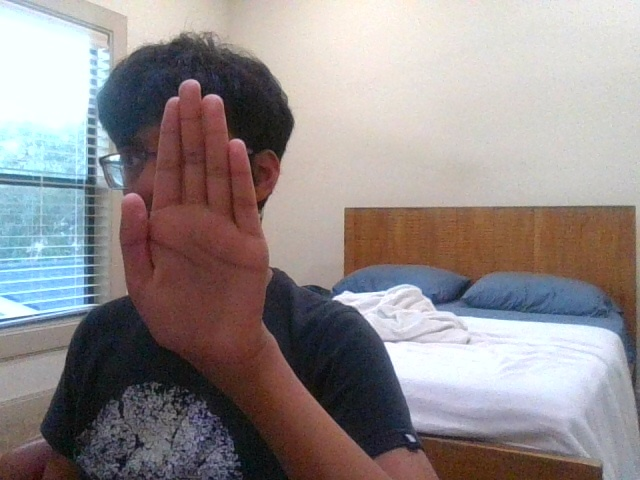hello: (120, 79, 268, 354)
